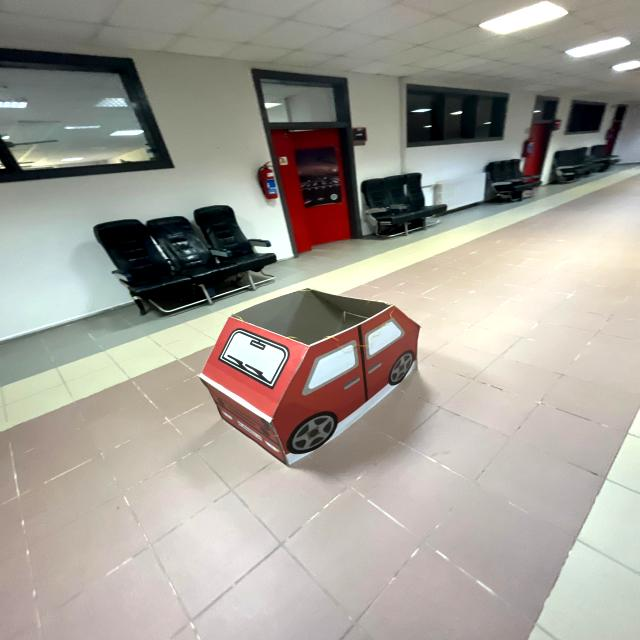red_car: (188, 281, 443, 471)
